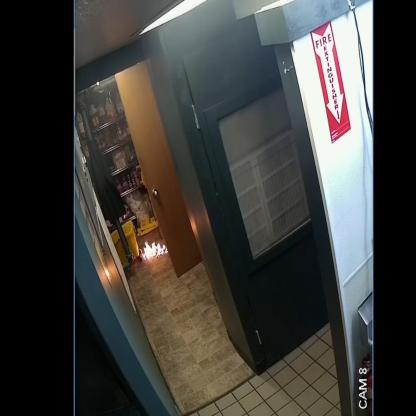fire: (142, 240, 169, 259)
